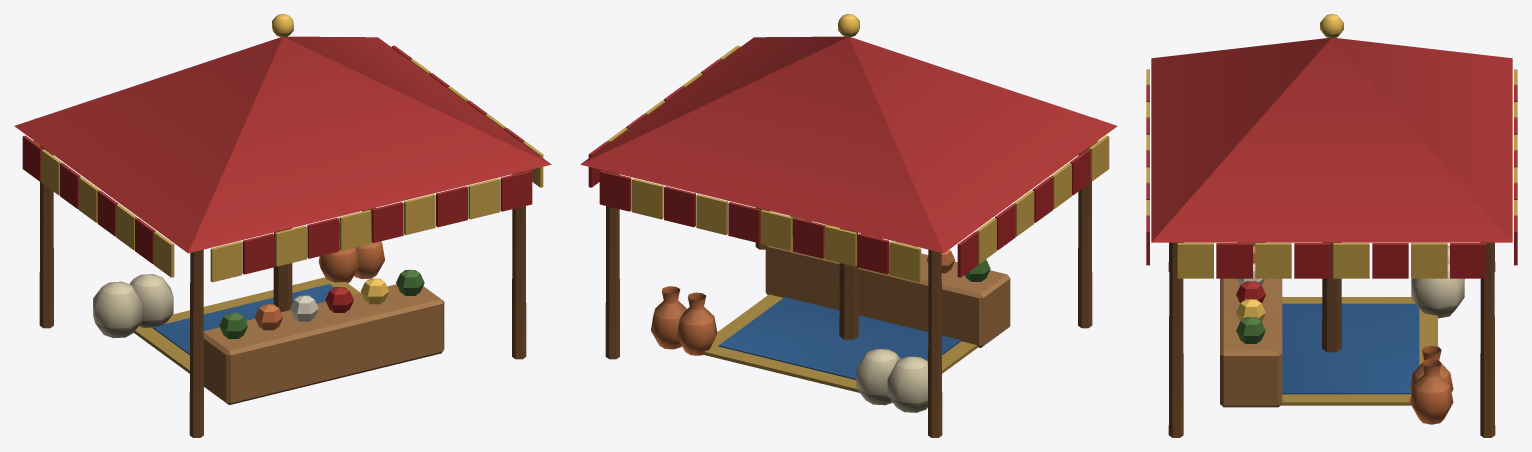
Rendered from city_tent_red.glb.
3 views of the same model, side by side, from view 1: azimuth 30°, elevation 25°; view 2: azimuth 150°, elevation 25°; view 3: azimuth 270°, elevation 25° (orthographic). The views are drawn at different scales.
Visible parts, largest first — view 1: city_tent_red; view 2: city_tent_red; view 3: city_tent_red.
Boxes of the visible parts, x1,y1,x2,y2 form: city_tent_red: (14,14,551,437); city_tent_red: (580,14,1117,437); city_tent_red: (1146,14,1517,437).
Size of the model in its own units: 0.716 by 0.6095 by 0.596.
